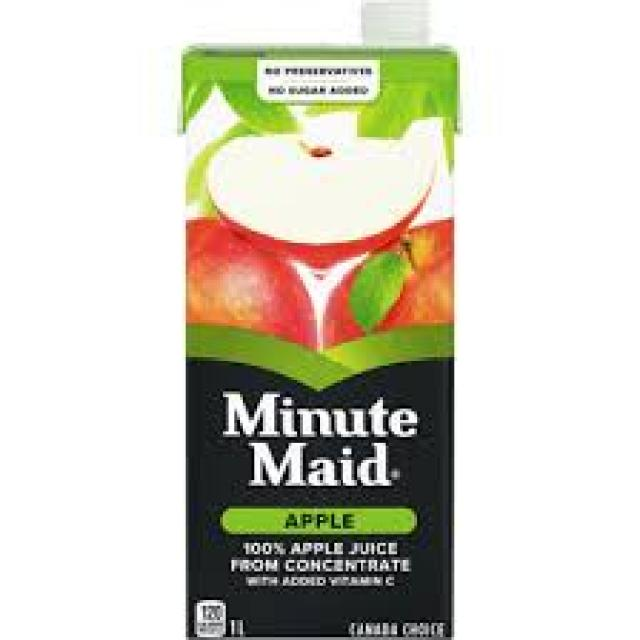non_white_jug: (158, 29, 473, 632)
